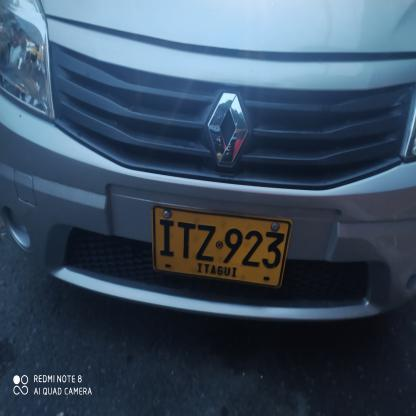placa: (145, 199, 294, 294)
